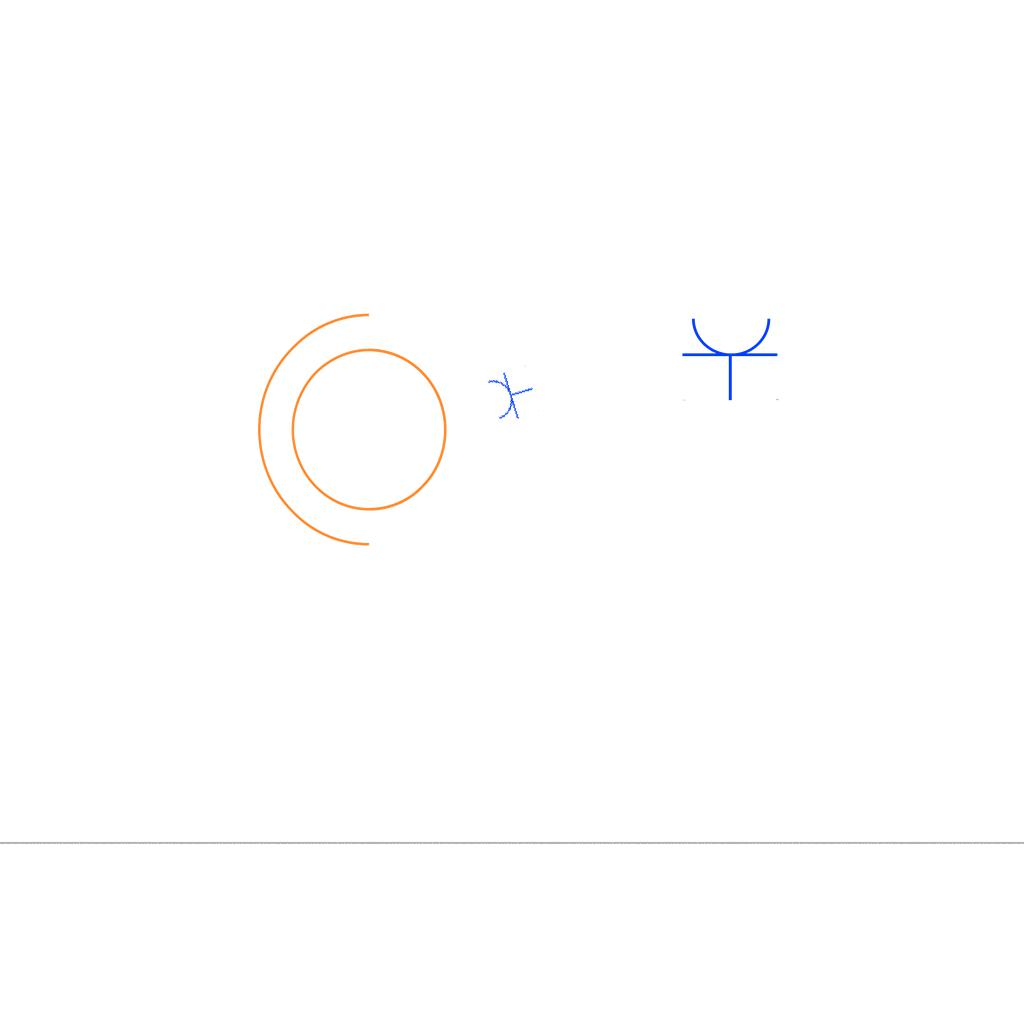Scheinwerfer_fuer_Alarmbeleuchtung: (247, 304, 472, 568)
Schukosteckdose_einfach: (681, 314, 781, 401), (484, 364, 540, 425)
